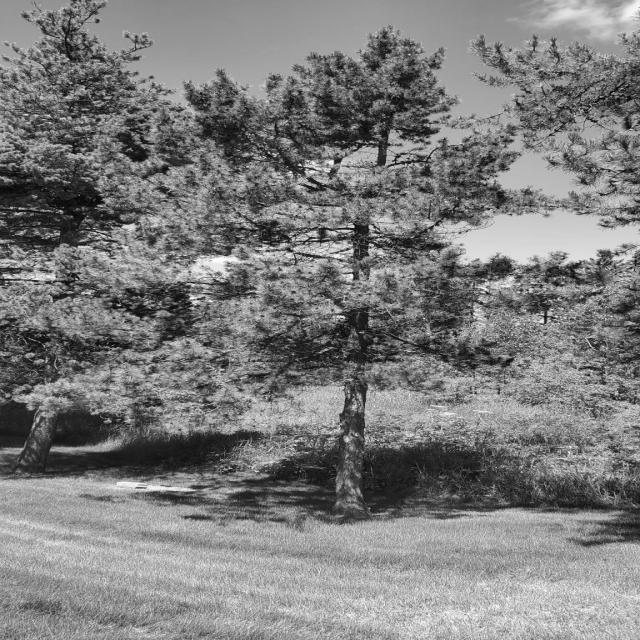Pinus contorta var: (238, 15, 504, 521)
